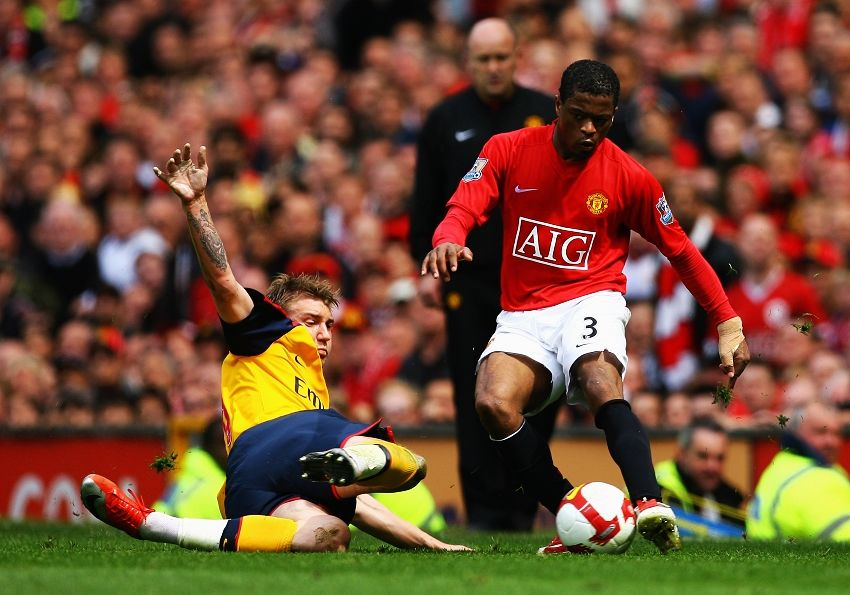10+: (1, 1, 831, 552)
down: (70, 123, 474, 562)
